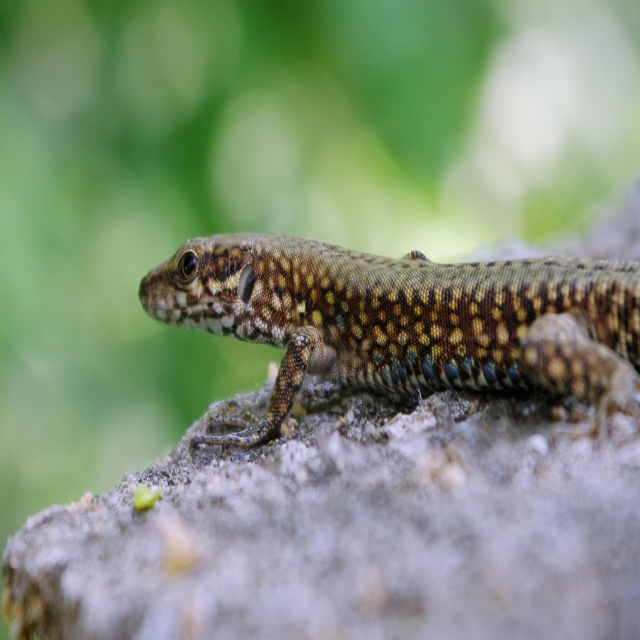Lizard: (138, 232, 640, 449)
